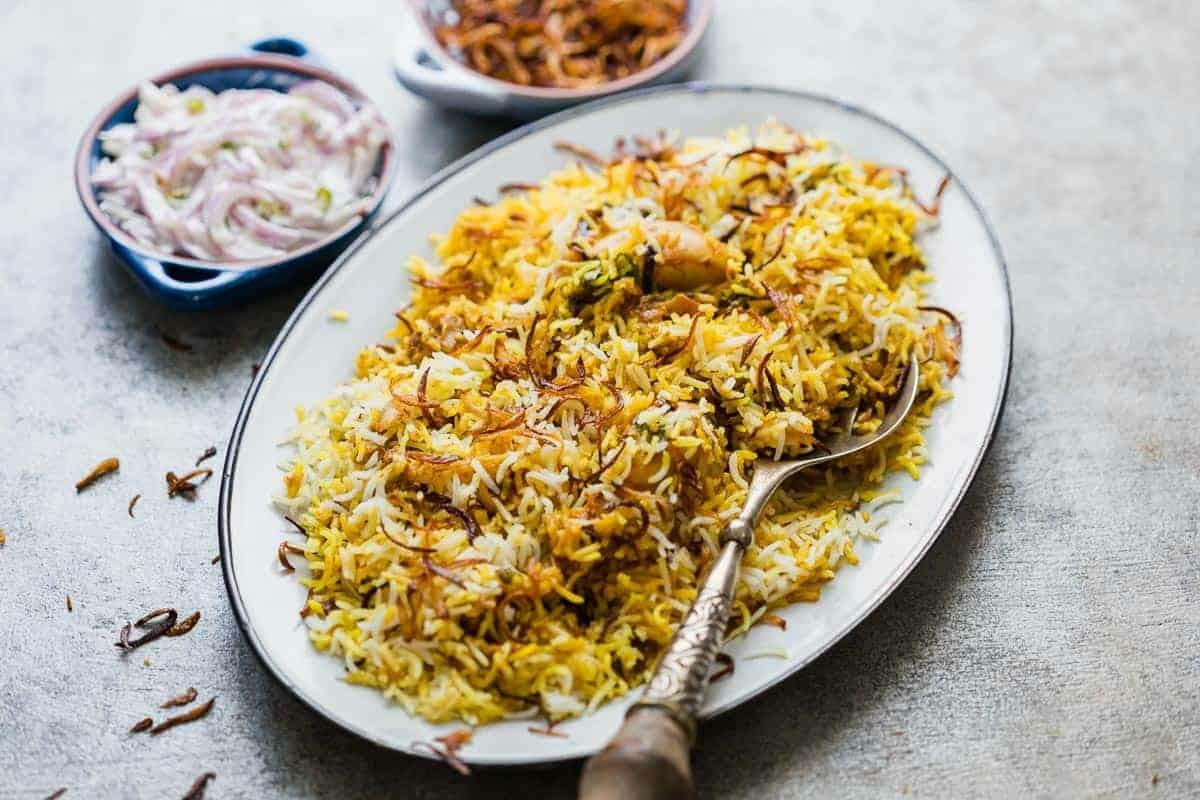Biryani: (270, 105, 962, 728)
